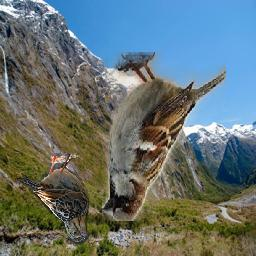Sparrow: (102, 53, 226, 222), (17, 153, 92, 245)
